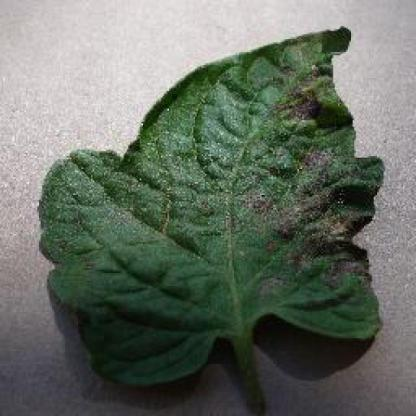Tomato_Blight: (39, 27, 380, 384)
